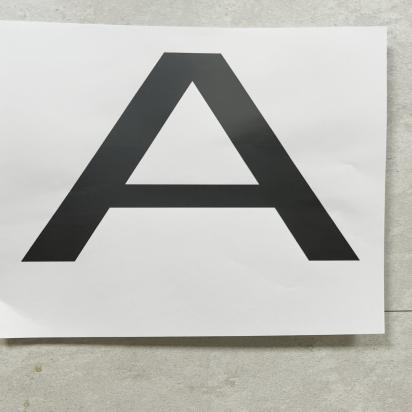seat: (29, 33, 362, 282)
